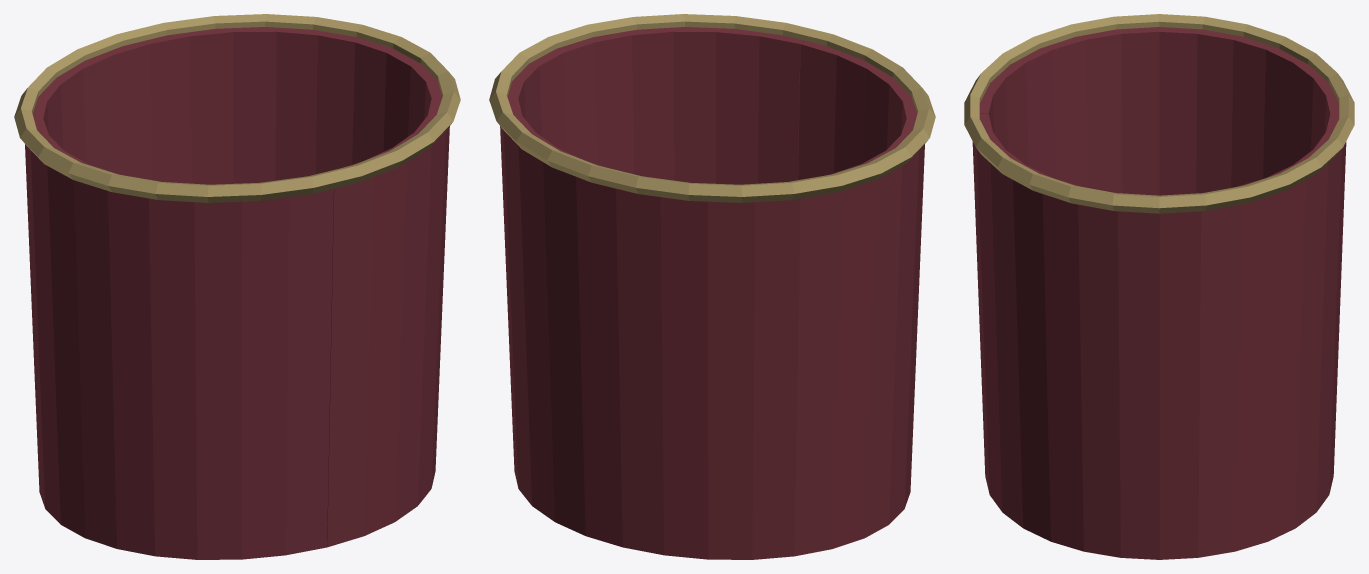
File: SinRobe.fbx
The picture shows the model from 3 angles, left to right: view 1: azimuth 30°, elevation 25°; view 2: azimuth 150°, elevation 25°; view 3: azimuth 270°, elevation 25°; orthographic projection. The views are drawn at different scales.
Visible parts, largest first — view 1: SinRobe; view 2: SinRobe; view 3: SinRobe.
Part boxes in pixels (x1,y1,x2,y2): SinRobe: [14, 14, 460, 559]; SinRobe: [489, 14, 935, 559]; SinRobe: [964, 14, 1354, 559].
Size of the model in its own units: 23 by 21.08 by 20.09.
